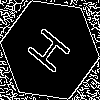H: (25, 25, 80, 82)
